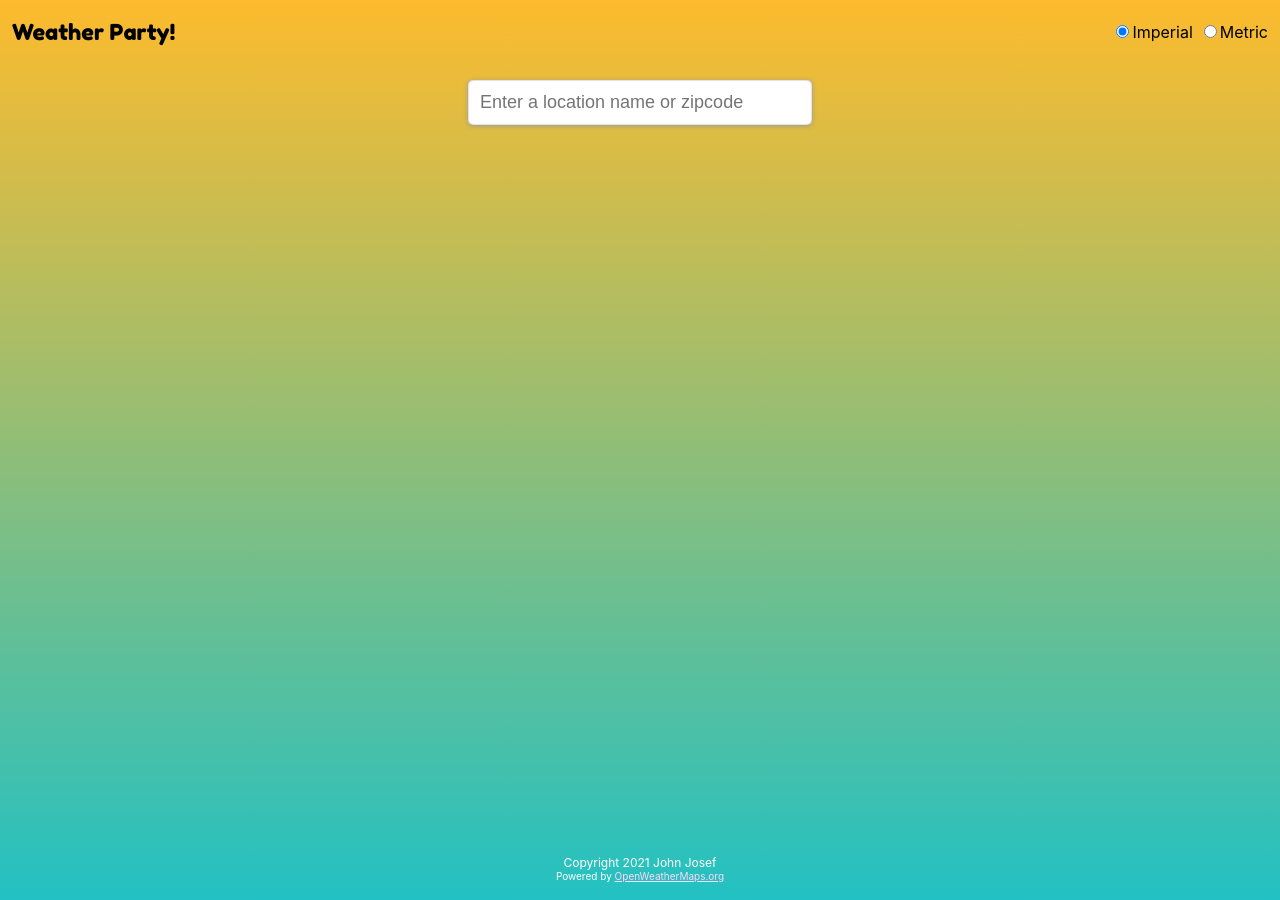
Test: loading weather from selected input
This screenshot has width=1280, height=900.
Type "Charleston, SC" into the field labelled "location" at (640, 102), box [468,80,812,125]
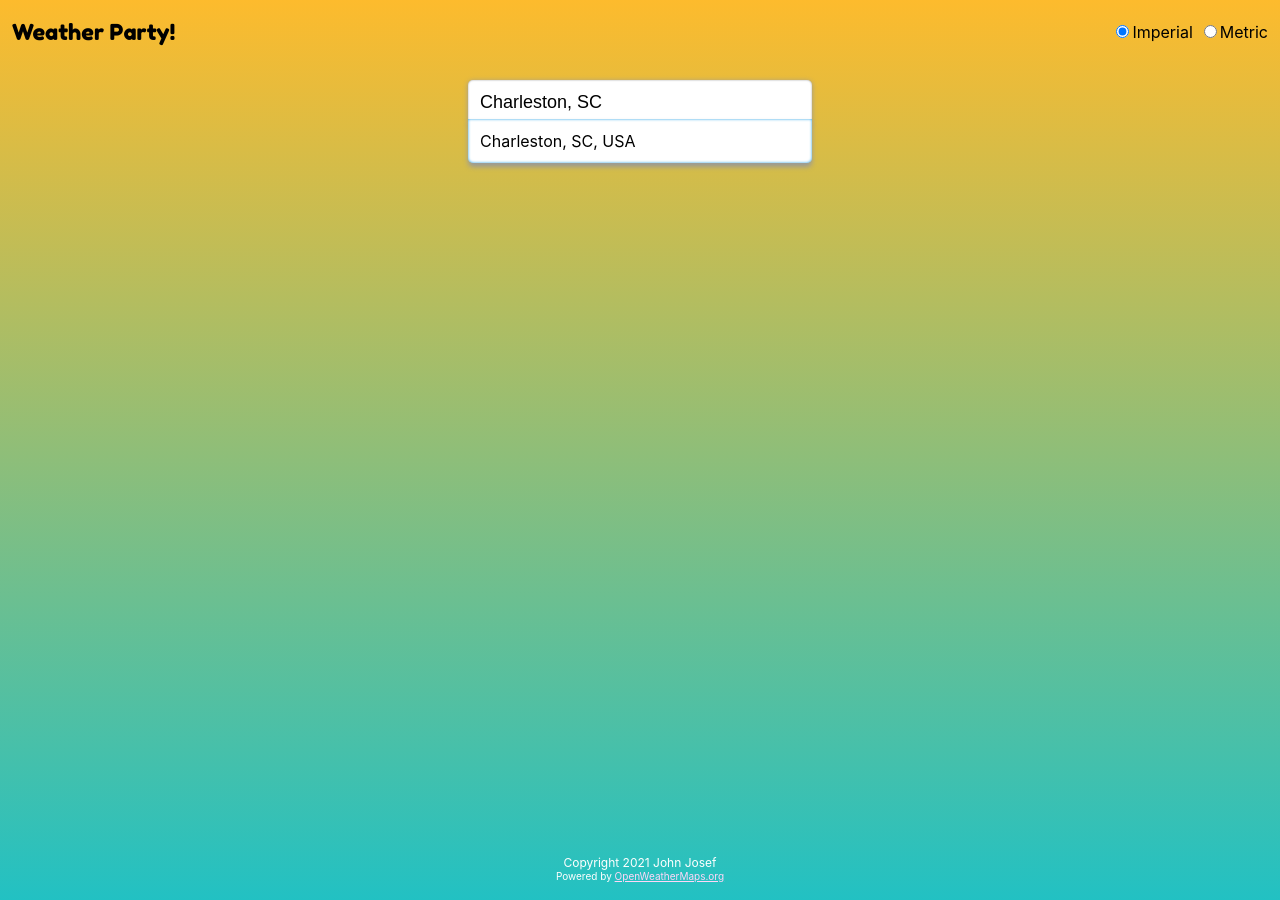
Click the text "Charleston, SC, USA" at (558, 141), box [480,131,636,151]
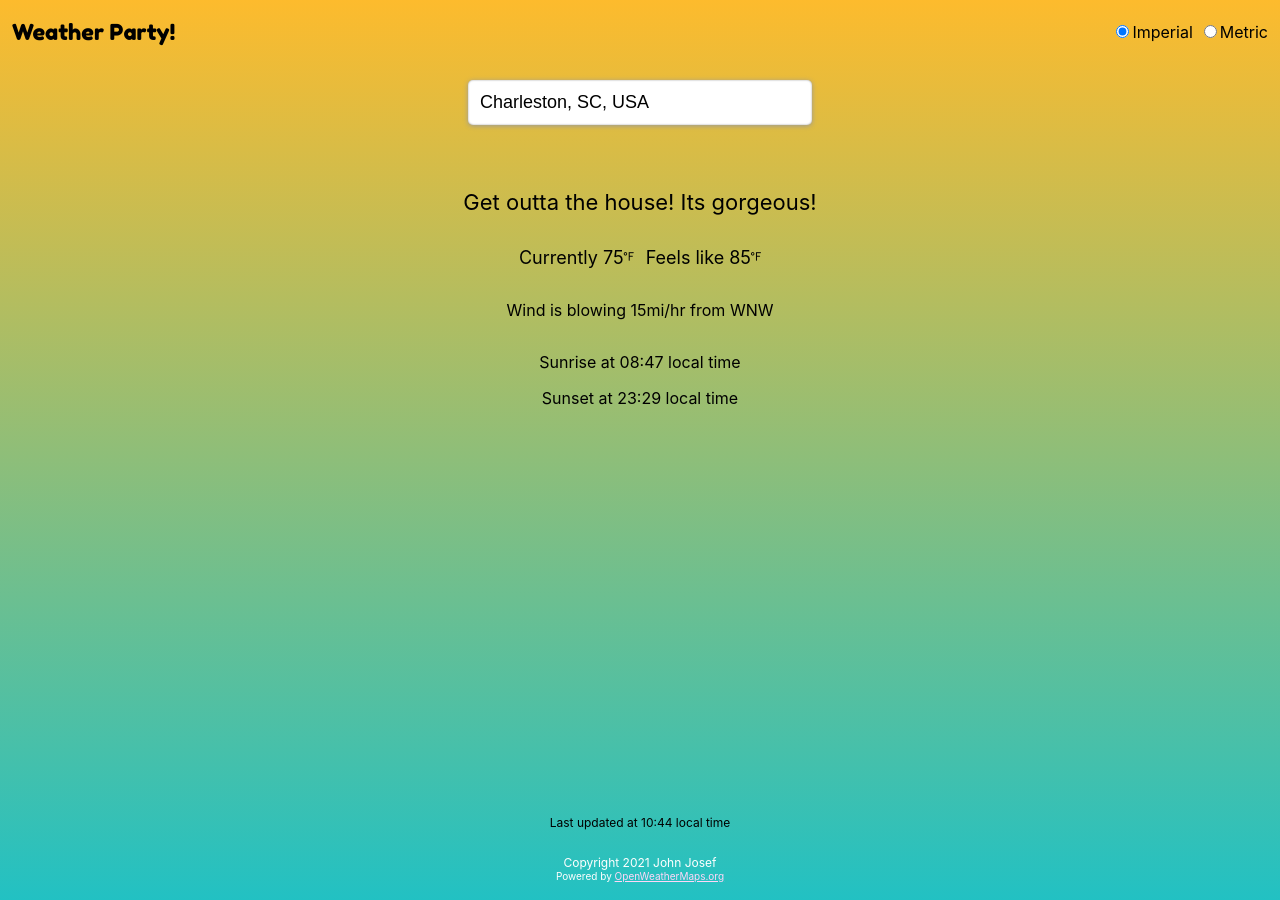
Now the text "Currently 75" is shown, box [519,247,624,268]
